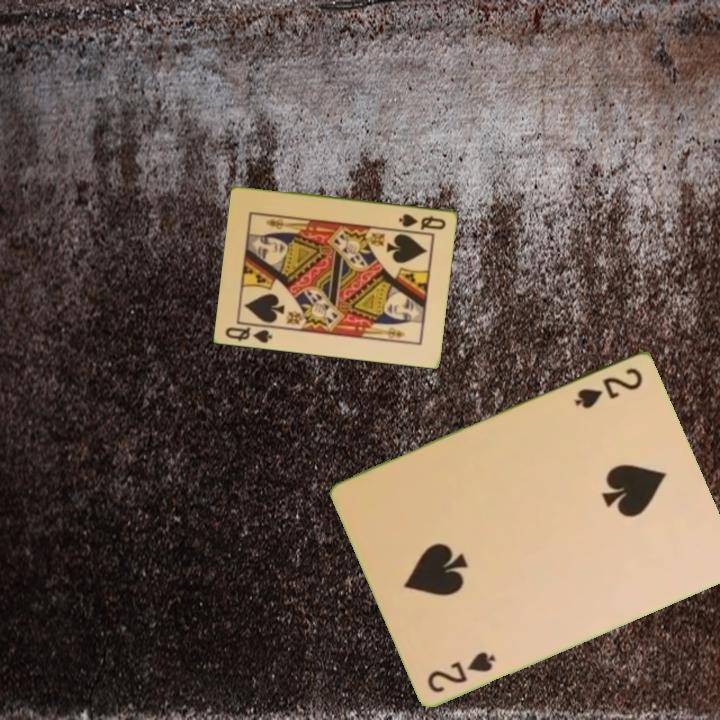2s: (571, 363, 646, 412), (424, 647, 499, 695)
Qs: (222, 319, 277, 346), (396, 210, 449, 232)
